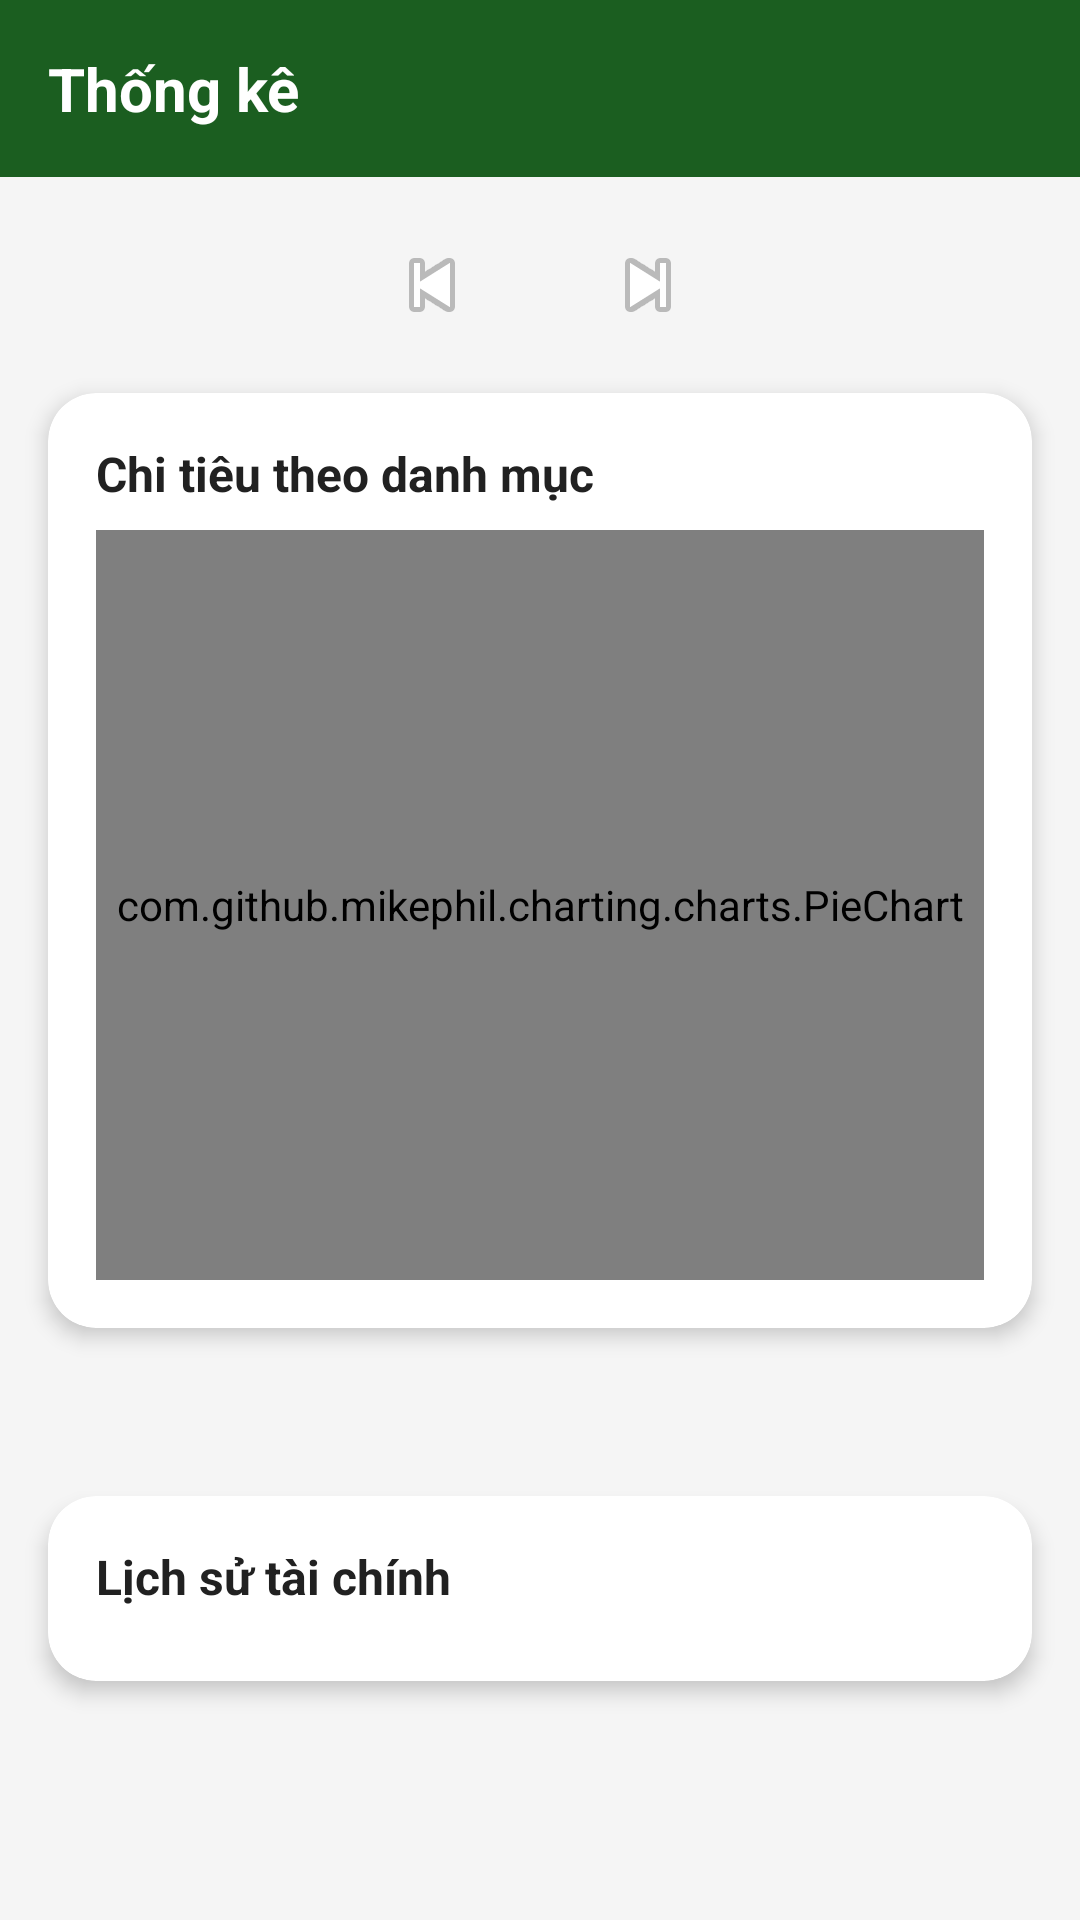

Where to tap for icons on this 1080×1920 app screen, as point (x, y):
Tháng sau: point (648, 285)
Tháng trước: point (432, 285)
